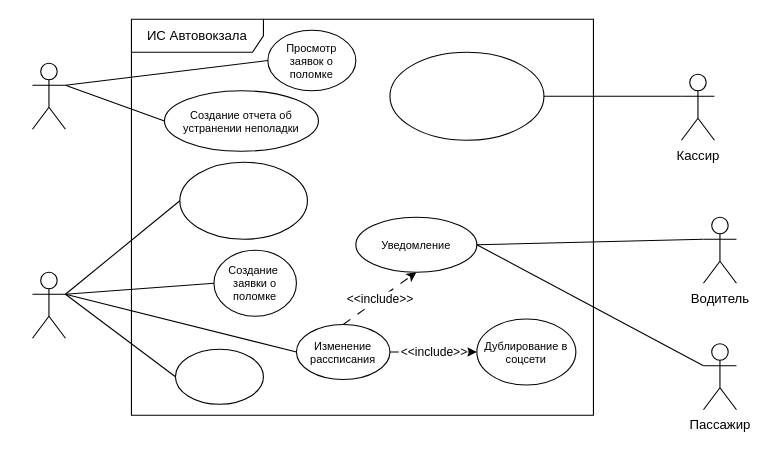
Image size: 769x452. Some labels were removed from this diagram. Here are the shapes that lost their labels. From the top down, the box of each, then its label:
(31, 62, 65, 129): Техник
(389, 51, 544, 140): Оформление покупки наличными и безналичными деньгами
(179, 161, 307, 239): Получение рекомендаций по рассписанию
(31, 271, 65, 338): Оператор
(174, 348, 263, 404): Расчет дорожной ситуации
